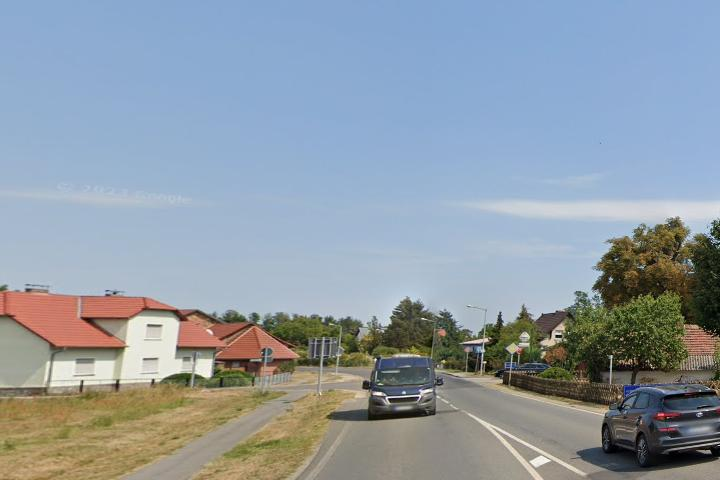traffic_sign: (506, 341, 520, 354)
vehicle: (595, 379, 720, 470), (356, 348, 450, 422)
